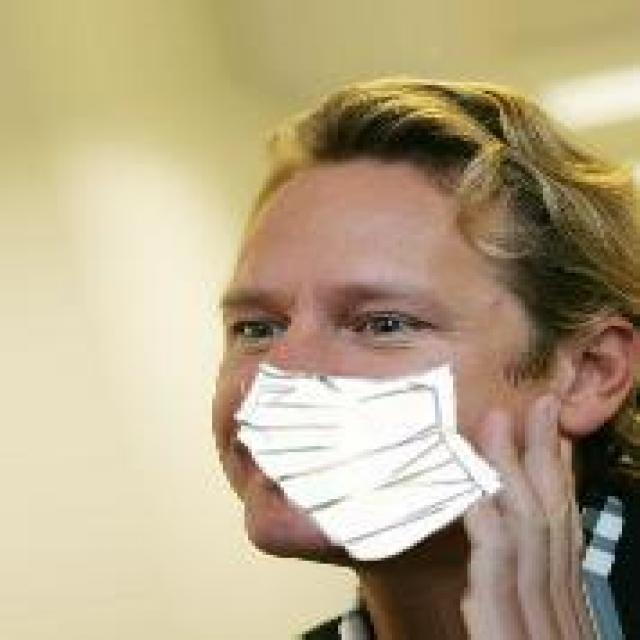mask: (194, 103, 640, 599)
